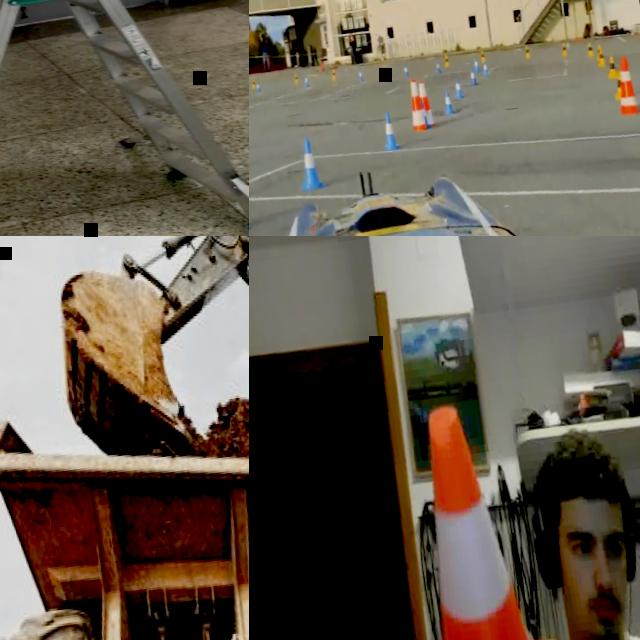NO-Hardhat: (530, 420, 630, 514)
NO-Mask: (567, 581, 638, 640)
Person: (373, 370, 640, 640), (0, 0, 138, 162)
Safety Cone: (372, 395, 575, 640), (292, 134, 324, 192), (611, 53, 640, 115), (405, 79, 427, 134), (416, 78, 436, 132), (378, 111, 399, 154), (610, 68, 628, 102), (417, 96, 432, 131), (440, 88, 454, 116), (606, 55, 619, 82), (450, 76, 464, 100), (467, 66, 477, 88), (596, 49, 607, 69), (594, 44, 604, 62), (472, 57, 481, 73), (586, 42, 595, 58), (482, 60, 490, 76), (357, 68, 365, 84), (560, 42, 568, 58), (523, 44, 531, 58), (479, 48, 487, 62), (435, 61, 442, 76), (443, 54, 450, 68), (380, 62, 387, 76), (303, 75, 310, 88), (330, 68, 336, 82), (293, 74, 299, 86), (250, 78, 256, 89), (255, 81, 260, 93), (403, 66, 408, 78)
vehicle: (35, 236, 249, 640), (0, 375, 249, 640), (249, 131, 640, 236)
